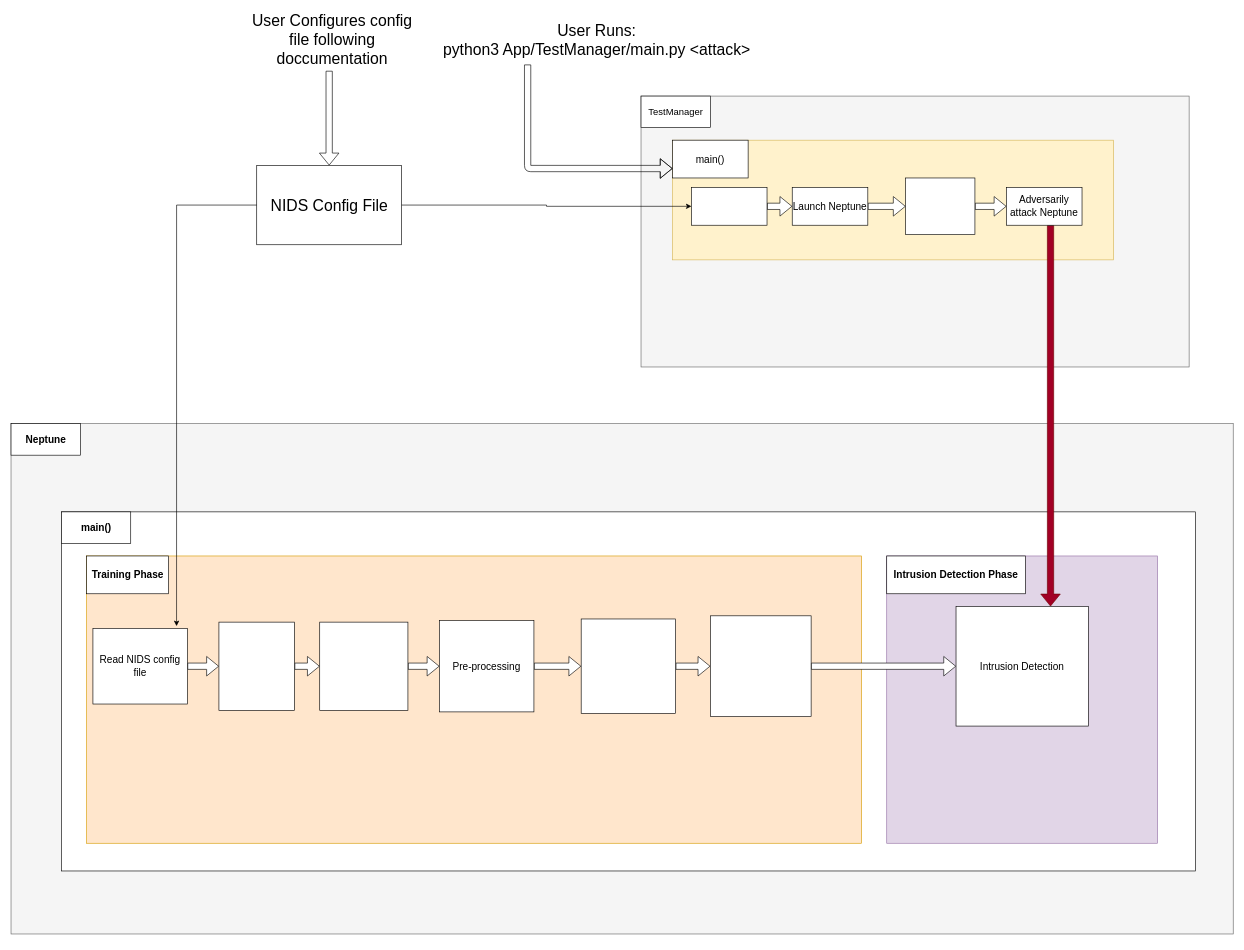
Image size: 1244x950. Some labels were removed from this diagram. The centre of each missing label's shape, as x and y in pixels:
"Adversarial Training" goes at (x=628, y=665).
"Feature Selection" goes at (x=363, y=665).
"Initialise Classifiers" goes at (x=256, y=665).
"Join trained ML models into Ensemble" goes at (x=760, y=666).
"Verify NIDS config file" goes at (x=729, y=206).
"Wait for neptune to finish training" goes at (x=940, y=206).
